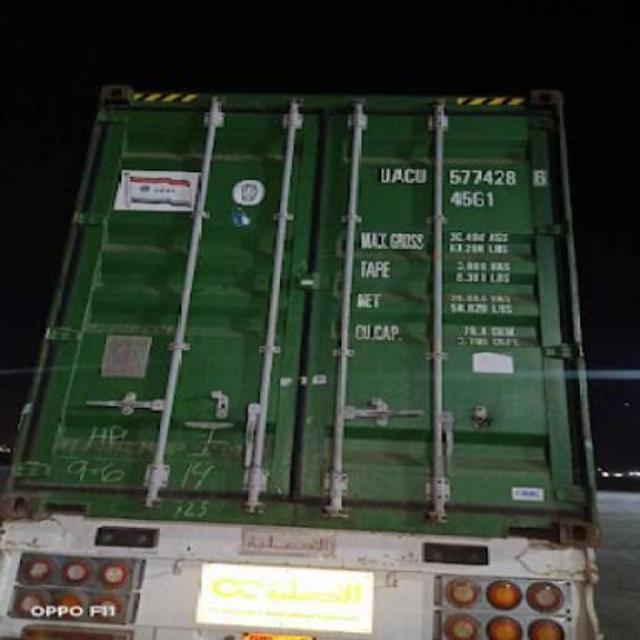2: (492, 159, 504, 189)
4: (481, 163, 494, 184)
5: (446, 163, 459, 187)
6: (532, 165, 550, 189)
7: (471, 162, 484, 188), (458, 164, 470, 186)
8: (504, 162, 516, 188)
A: (391, 160, 404, 186)
C: (404, 162, 414, 188)
U: (412, 159, 432, 191), (378, 162, 390, 188)
